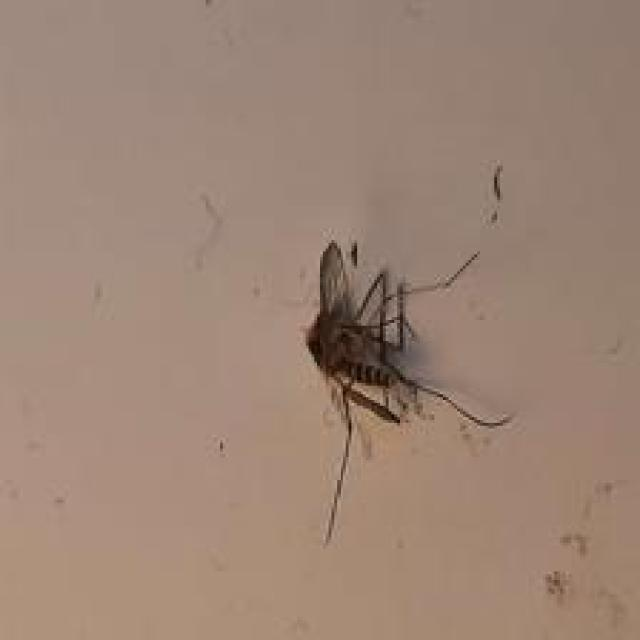Culex: (303, 237, 514, 546)
